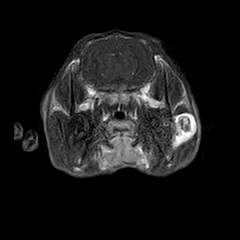Brain: (68, 9, 167, 107)
